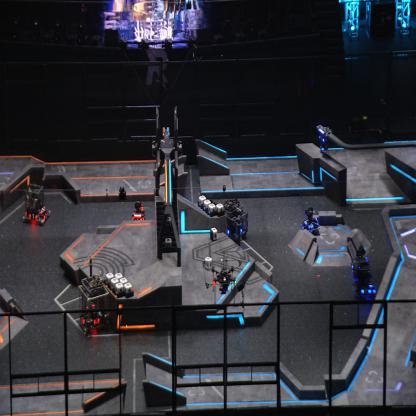car: (78, 277, 110, 335), (22, 183, 51, 223), (351, 256, 376, 299), (223, 199, 248, 240), (299, 205, 319, 235), (132, 201, 146, 226)
